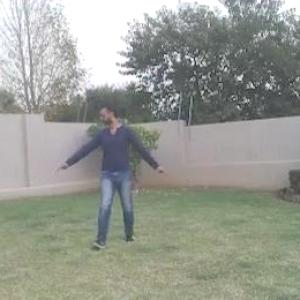land: (50, 88, 167, 249)
